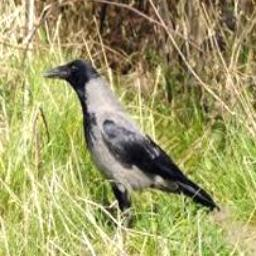Crow: (43, 59, 221, 227)
